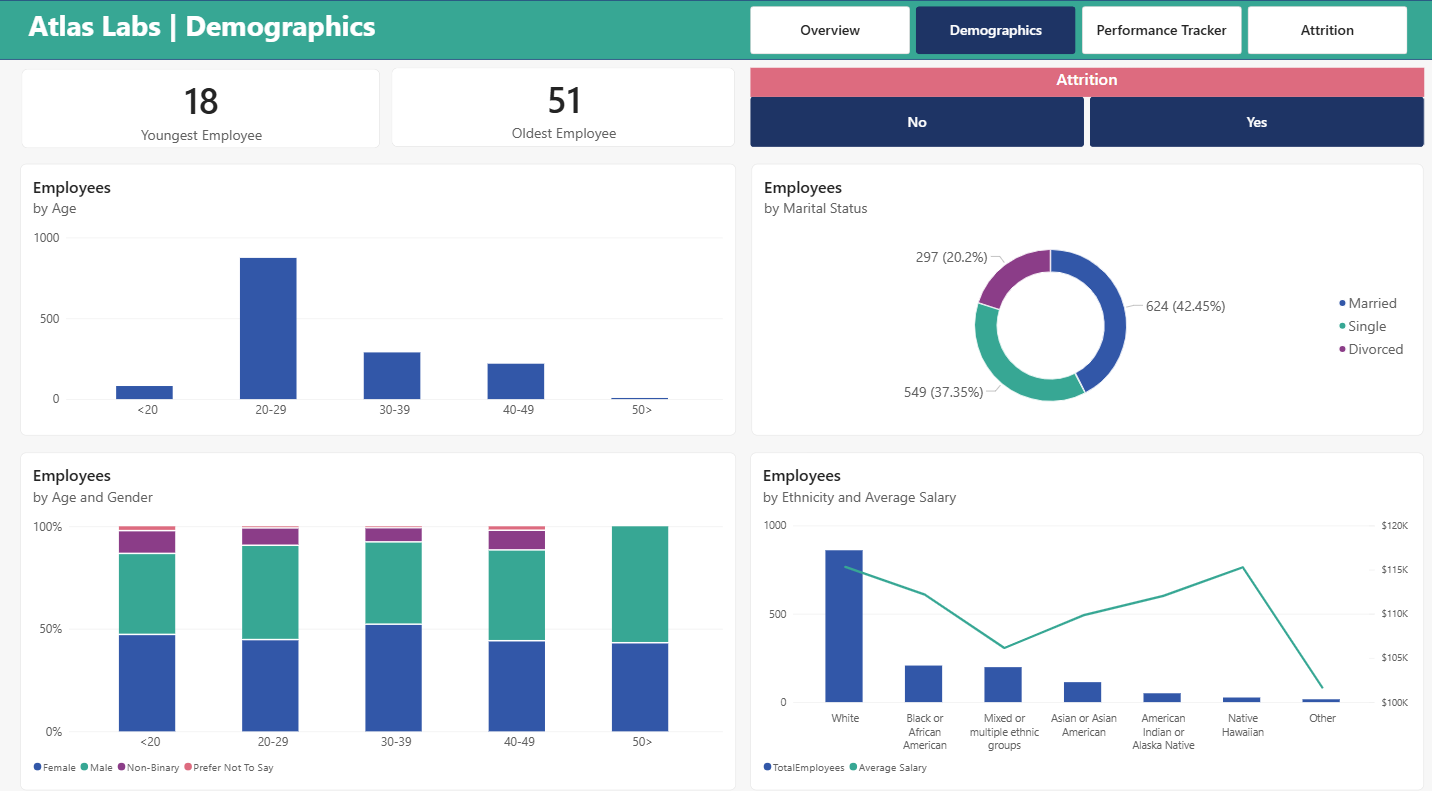

This screenshot's page, from the dashboard's own definition file:
{"tool":"powerbi","page":{"name":"Demographics","canvas":[1920,1080],"ordinal":1},"visuals":[{"type":"cardVisual","title":"Oldest Employee","fields":{"Data":["Max(DimEmployee.Age)"]},"box":[524,90,458,106],"z":0},{"type":"cardVisual","title":"Youngest Employee","fields":{"Data":["Min(DimEmployee.Age)"]},"box":[30,92,478,106],"z":1000},{"type":"clusteredColumnChart","title":"Employees","fields":{"Y":["_Measures.TotalEmployees"],"Category":["DimEmployee.AgeBins"]},"box":[28,218,954,362],"z":2000},{"type":"hundredPercentStackedColumnChart","title":"Employees","fields":{"Category":["DimEmployee.AgeBins"],"Y":["_Measures.TotalEmployees"],"Series":["DimEmployee.Gender"]},"box":[28,604,954,450],"z":3000},{"type":"advancedSlicerVisual","fields":{"Values":["DimEmployee.Attrition"]},"box":[1002,90,898,106],"z":4000},{"type":"donutChart","title":"Employees","fields":{"Category":["DimEmployee.MaritalStatus"],"Y":["_Measures.TotalEmployees"]},"box":[1004,218,896,362],"z":5000},{"type":"lineStackedColumnComboChart","title":"Employees","fields":{"Y":["_Measures.TotalEmployees"],"Category":["DimEmployee.Ethnicity"],"Y2":["_Measures.AverageSalary"]},"box":[1002,604,898,450],"z":6000},{"type":"shape","box":[0,0,1920.1,79.6],"z":7000},{"type":"textbox","box":[0,9,541.1,70.6],"z":8000},{"type":"pageNavigator","box":[1002,8,876,64],"z":9000}]}

Visuals, with their boxes in screenshot pixels (x1, y1, x2, y2), scaled from the page's 1920x1080 canvas onto the 1432x791 screenshot:
"Oldest Employee" cardVisual: bbox=(391, 66, 732, 144)
"Youngest Employee" cardVisual: bbox=(22, 67, 379, 145)
"Employees" clusteredColumnChart: bbox=(21, 160, 732, 425)
"Employees" hundredPercentStackedColumnChart: bbox=(21, 442, 732, 772)
advancedSlicerVisual - DimEmployee.Attrition: bbox=(747, 66, 1417, 144)
"Employees" donutChart: bbox=(749, 160, 1417, 425)
"Employees" lineStackedColumnComboChart: bbox=(747, 442, 1417, 772)
shape: bbox=(0, 0, 1431, 58)
textbox: bbox=(0, 7, 404, 58)
pageNavigator: bbox=(747, 6, 1401, 53)
